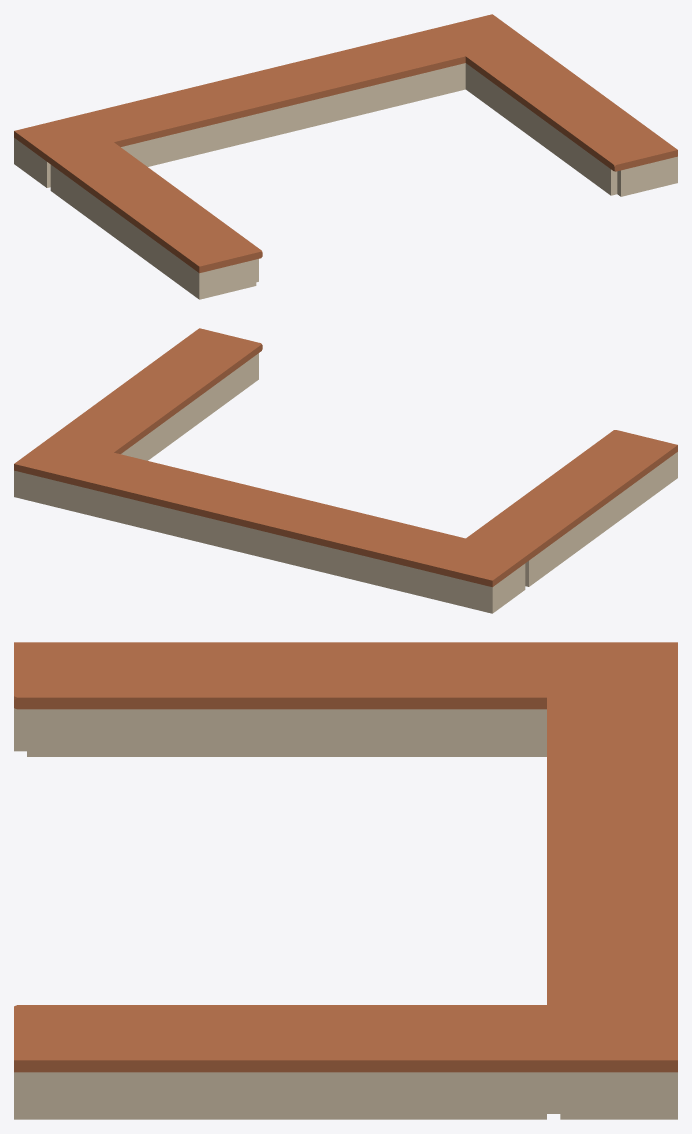
Rendered from TEZGAH.fbx.
The picture shows the model from 3 angles, top to bottom: view 1: azimuth 30°, elevation 25°; view 2: azimuth 150°, elevation 25°; view 3: azimuth 270°, elevation 25°; orthographic projection. The views are drawn at different scales.
Visible parts, largest first — view 1: TEZGAH; view 2: TEZGAH; view 3: TEZGAH.
Boxes of the visible parts, <box> form: TEZGAH: <box>14,14,677,299</box>; TEZGAH: <box>14,328,677,613</box>; TEZGAH: <box>14,642,677,1119</box>.
Bounding box in the file's own units: 1512 × 100 × 1015.
